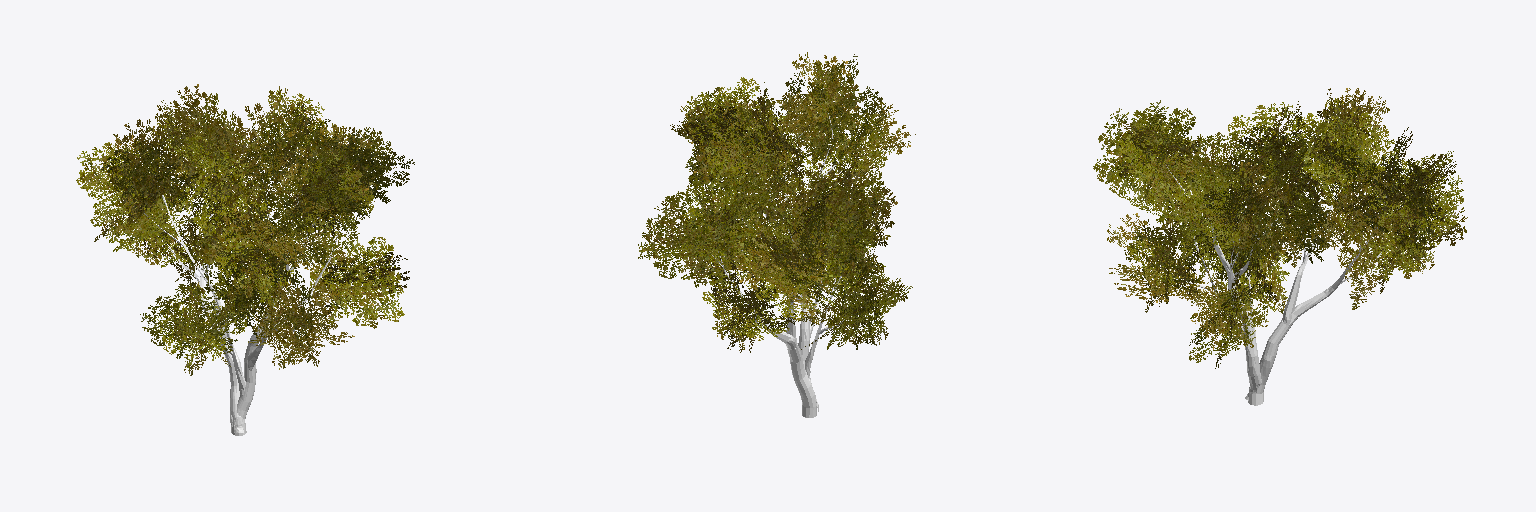
3 renders of one model, left to right at view 1: azimuth 30°, elevation 25°; view 2: azimuth 150°, elevation 25°; view 3: azimuth 270°, elevation 25°, orthographic.
Visible parts, largest first — view 1: Foliage__leafcard, Bark; view 2: Foliage__leafcard, Bark; view 3: Foliage__leafcard, Bark.
Boxes of the visible parts, box(x1,y1,x2,y2) form: Foliage__leafcard: box(76, 84, 414, 375); Bark: box(144, 157, 344, 435); Foliage__leafcard: box(638, 52, 915, 352); Bark: box(704, 104, 848, 417); Foliage__leafcard: box(1093, 88, 1467, 368); Bark: box(1166, 150, 1400, 405).
Size of the model in its own units: 8.47 by 10 by 11.19.
2 materials, 1 textured.